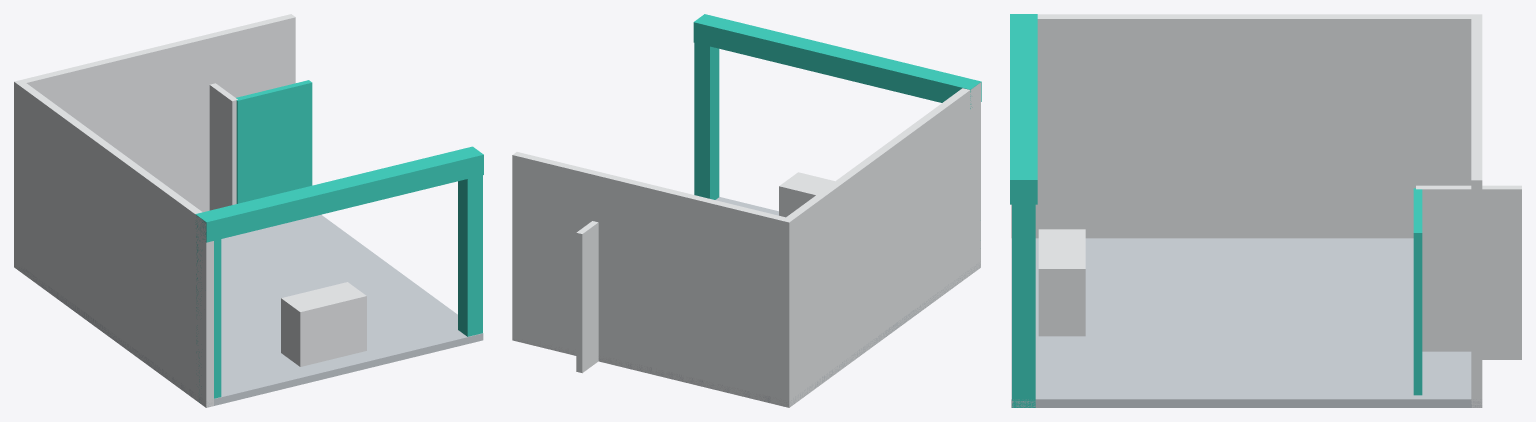
3 views of the same model, side by side, from view 1: azimuth 30°, elevation 25°; view 2: azimuth 150°, elevation 25°; view 3: azimuth 270°, elevation 25° (orthographic). The views are drawn at different scales.
Visible parts, largest first — view 1: Exhibition Booth Concept; view 2: Exhibition Booth Concept; view 3: Exhibition Booth Concept.
Part boxes in pixels (x1,y1,x2,y2): Exhibition Booth Concept: [14, 14, 483, 407]; Exhibition Booth Concept: [512, 14, 981, 407]; Exhibition Booth Concept: [1010, 14, 1521, 407].
Size of the model in its own units: 5 by 3.2 by 6.52.
